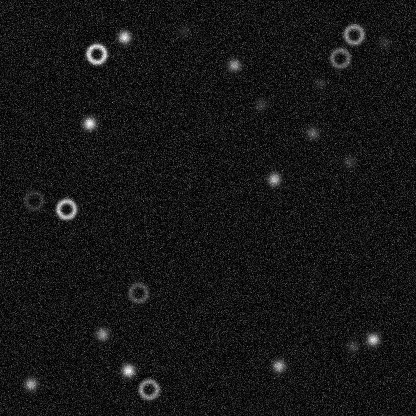Ring: (136, 377, 160, 401), (21, 188, 45, 212), (54, 196, 78, 220), (327, 46, 351, 70), (126, 280, 150, 304), (341, 22, 365, 46), (84, 41, 108, 65)
Spot: (304, 125, 320, 141), (376, 34, 392, 50), (175, 23, 191, 39), (344, 338, 360, 354), (341, 153, 357, 169), (266, 171, 282, 187), (81, 115, 97, 131), (364, 331, 380, 347), (120, 362, 136, 378), (270, 357, 286, 373), (252, 96, 268, 112), (226, 57, 242, 73), (94, 326, 110, 342), (22, 376, 38, 392), (312, 75, 328, 91), (116, 28, 132, 44)
